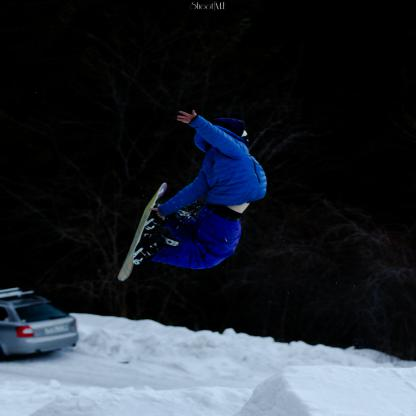Car: (0, 287, 78, 363)
